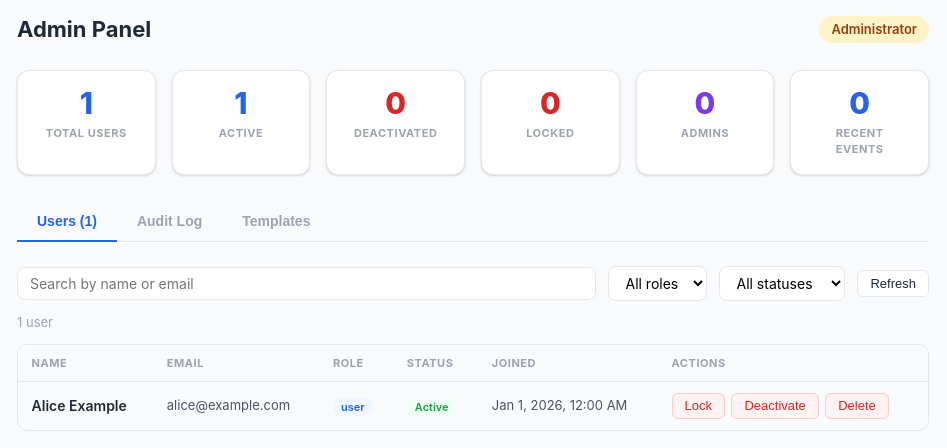
Scenario: AdminPanel users tab actions › deletes a user when the confirmation email matches
Click the button "Delete" at (857, 406), box [825,392,889,419]
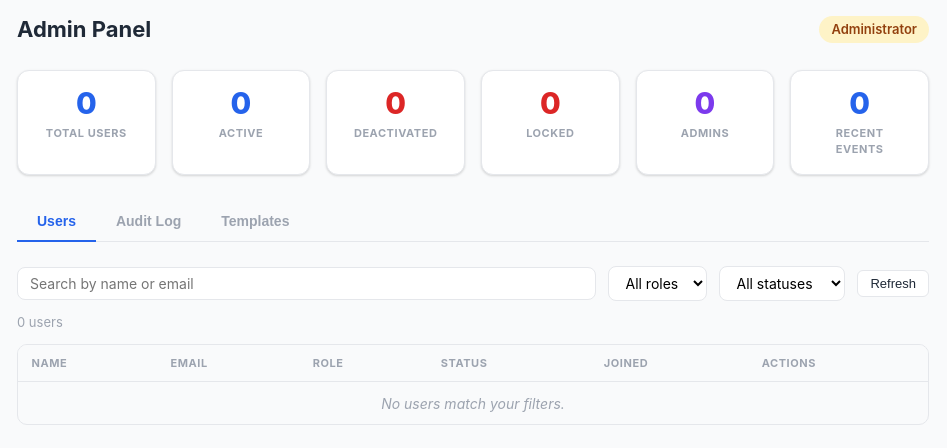
Expected: the text "Alice Example" is gone
